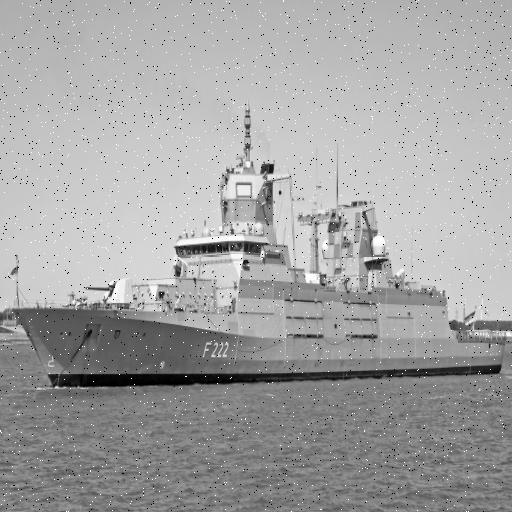Fragata: (5, 98, 511, 391)
